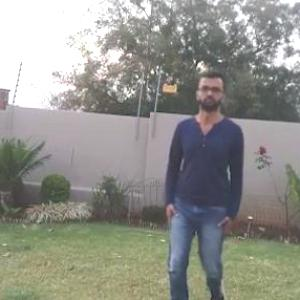follow: (165, 79, 240, 299)
